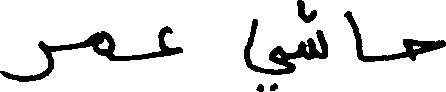ا: (344, 8, 364, 62)
ح: (400, 36, 444, 60)
ر: (0, 38, 54, 82)
س: (300, 27, 327, 60)
ع: (157, 23, 183, 56)
م: (92, 28, 116, 61)
ي: (242, 17, 295, 91)
